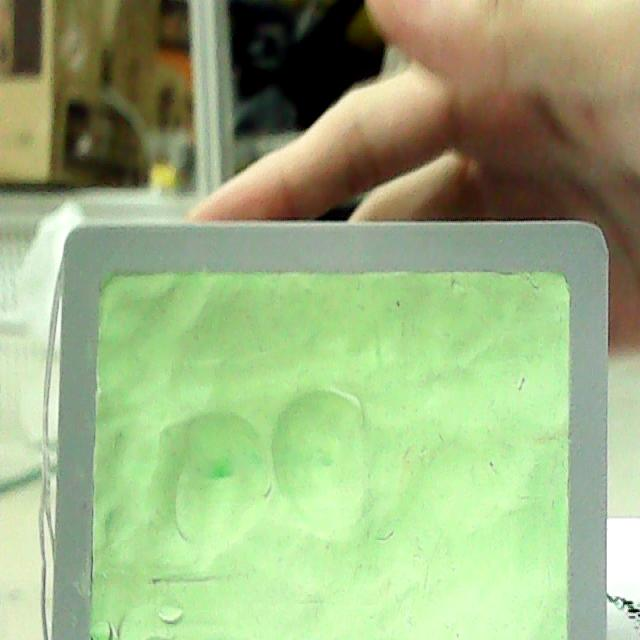block: (46, 218, 618, 640)
